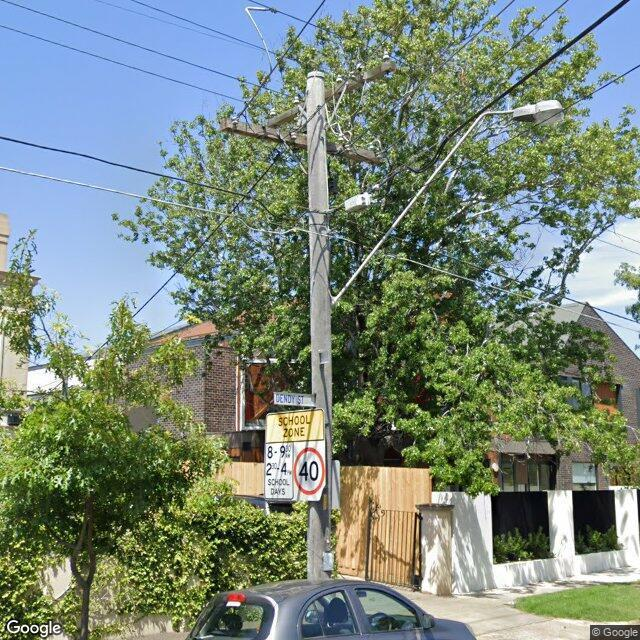crossarm: (268, 59, 396, 127), (219, 117, 384, 165)
streetlight: (331, 100, 564, 314)
timber-pole: (306, 71, 332, 581)
